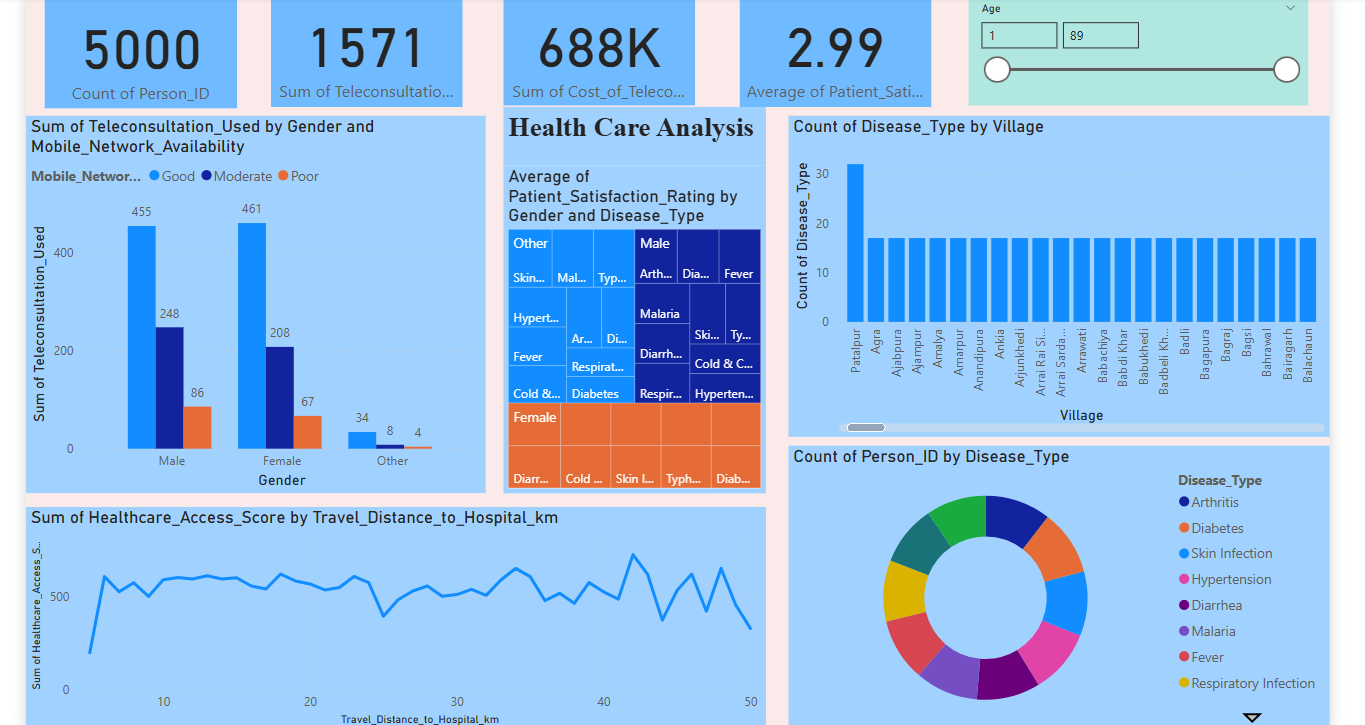

What the dashboard file says about the page in this screenshot:
{"tool":"powerbi","page":{"name":"Page 1","canvas":[1280,720],"ordinal":0},"visuals":[{"type":"card","fields":{"Values":["CountNonNull(telemedicine_data_with_followups.Person_ID)"]},"box":[30.7,0,187.7,108],"z":0},{"type":"clusteredColumnChart","fields":{"Category":["telemedicine_data_with_followups.Gender"],"Y":["Sum(telemedicine_data_with_followups.Teleconsultation_Used)"],"Series":["telemedicine_data_with_followups.Mobile_Network_Availability"]},"box":[0,120.2,441.7,370.6],"z":1000},{"type":"donutChart","fields":{"Category":["telemedicine_data_with_followups.Disease_Type"],"Y":["CountNonNull(telemedicine_data_with_followups.Person_ID)"]},"box":[736.2,455.2,543.6,265],"z":2000},{"type":"lineChart","fields":{"Category":["telemedicine_data_with_followups.Travel_Distance_to_Hospital_km"],"Y":["Sum(telemedicine_data_with_followups.Healthcare_Access_Score)"]},"box":[0,499.4,726.4,220.9],"z":3000},{"type":"lineClusteredColumnComboChart","fields":{"Category":["telemedicine_data_with_followups.Village"],"Y":["CountNonNull(telemedicine_data_with_followups.Disease_Type)"]},"box":[736.2,120.2,543.6,315.3],"z":4000},{"type":"slicer","fields":{"Values":["telemedicine_data_with_followups.Age"]},"box":[920.3,1.2,326.4,106.7],"z":5000},{"type":"card","fields":{"Values":["Sum(telemedicine_data_with_followups.Cost_of_Teleconsultation)"]},"box":[468.7,0,187.7,108],"z":6000},{"type":"card","fields":{"Values":["Sum(telemedicine_data_with_followups.Teleconsultation_Used)"]},"box":[249.1,0,189,108],"z":7000},{"type":"card","fields":{"Values":["Avg(telemedicine_data_with_followups.Patient_Satisfaction_Rating)"]},"box":[687.1,1.2,187.7,108],"z":8000},{"type":"textbox","box":[452.8,109.2,273.6,47.9],"z":9000},{"type":"treemap","fields":{"Details":["telemedicine_data_with_followups.Disease_Type"],"Values":["Avg(telemedicine_data_with_followups.Patient_Satisfaction_Rating)"],"Group":["telemedicine_data_with_followups.Gender"]},"box":[461.4,157.1,257.7,321.5],"z":10000}]}

Visuals, with their boxes on the page's 1280x720 design canvas (x1, y1, x2, y2). These are canvas units, not pixel positions in the 1365x725 screenshot, which may show the page scaled, cropped or inside an application window:
card - CountNonNull(telemedicine_data_with_followups.Person_ID): (31, 0, 218, 108)
clusteredColumnChart - telemedicine_data_with_followups.Gender x Sum(telemedicine_data_with_followups.Teleconsultation_Used): (0, 120, 442, 491)
donutChart - telemedicine_data_with_followups.Disease_Type x CountNonNull(telemedicine_data_with_followups.Person_ID): (736, 455, 1280, 720)
lineChart - telemedicine_data_with_followups.Travel_Distance_to_Hospital_km x Sum(telemedicine_data_with_followups.Healthcare_Access_Score): (0, 499, 726, 720)
lineClusteredColumnComboChart - telemedicine_data_with_followups.Village x CountNonNull(telemedicine_data_with_followups.Disease_Type): (736, 120, 1280, 436)
slicer - telemedicine_data_with_followups.Age: (920, 1, 1247, 108)
card - Sum(telemedicine_data_with_followups.Cost_of_Teleconsultation): (469, 0, 656, 108)
card - Sum(telemedicine_data_with_followups.Teleconsultation_Used): (249, 0, 438, 108)
card - Avg(telemedicine_data_with_followups.Patient_Satisfaction_Rating): (687, 1, 875, 109)
textbox: (453, 109, 726, 157)
treemap - telemedicine_data_with_followups.Disease_Type x Avg(telemedicine_data_with_followups.Patient_Satisfaction_Rating): (461, 157, 719, 479)
